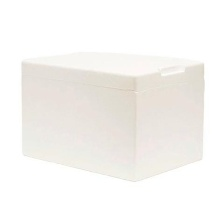foam_box: (14, 42, 212, 184)
